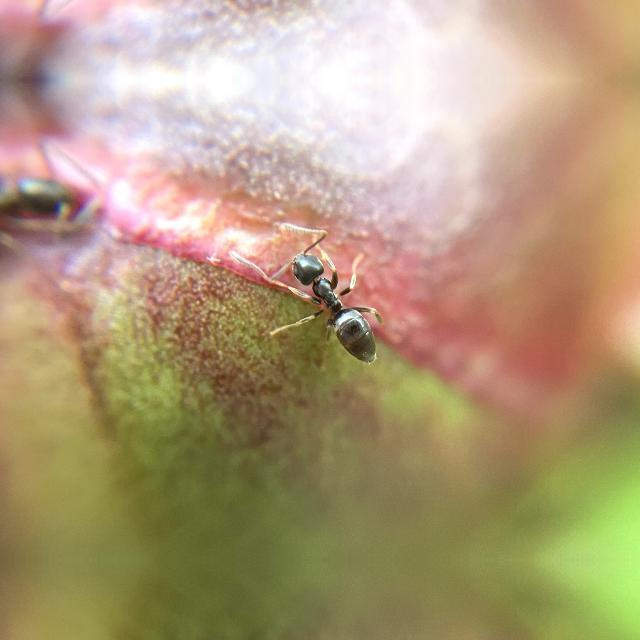Tapinoma: (250, 224, 400, 370), (0, 125, 96, 272), (0, 0, 96, 34)
